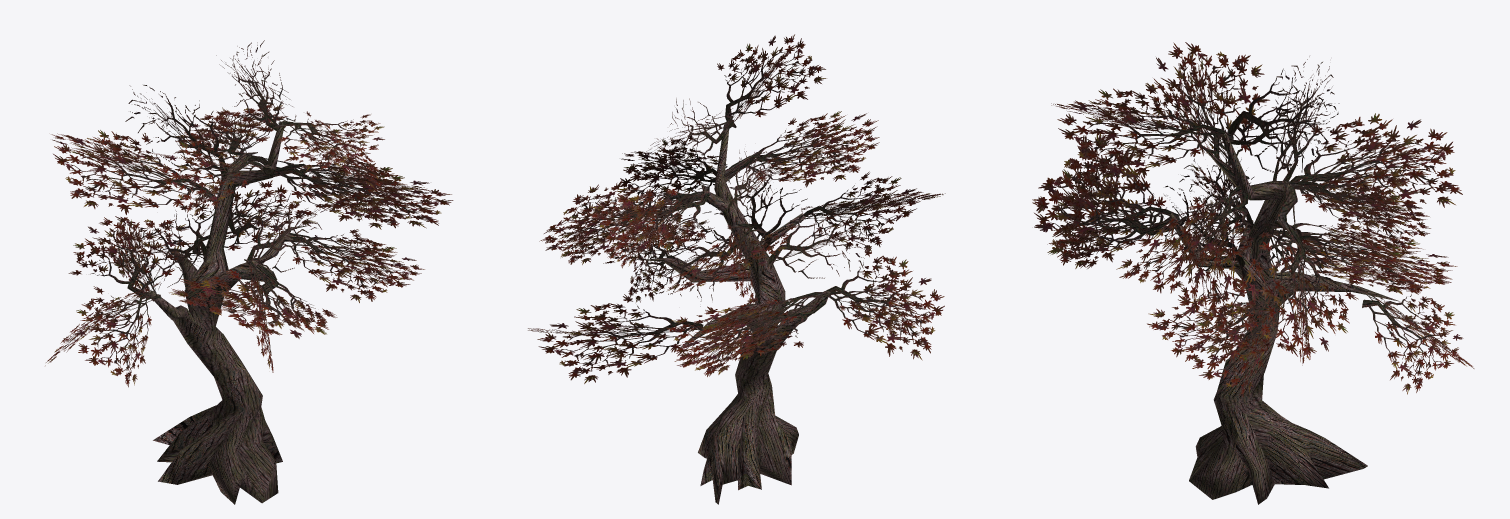
The model's file is decd_dath_blacktree_a1_l0.fbx.
3 renders of one model, left to right at view 1: azimuth 30°, elevation 25°; view 2: azimuth 150°, elevation 25°; view 3: azimuth 270°, elevation 25°, orthographic. The views are drawn at different scales.
Parts seen in each view (by area): view 1: mesh_node; view 2: mesh_node; view 3: mesh_node.
Part boxes in pixels (x1,y1,x2,y2): mesh_node: (45, 40, 453, 504); mesh_node: (528, 34, 945, 504); mesh_node: (1032, 42, 1474, 504).
Size of the model in its own units: 16.16 by 15.35 by 15.56.
